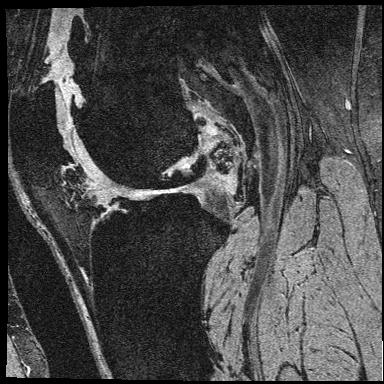SagKneeJointArea: (9, 79, 230, 294)
